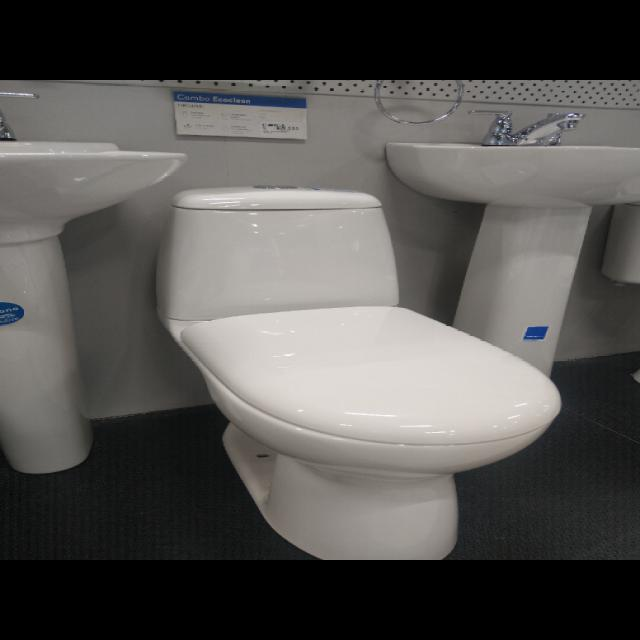toilet: (154, 184, 561, 560)
